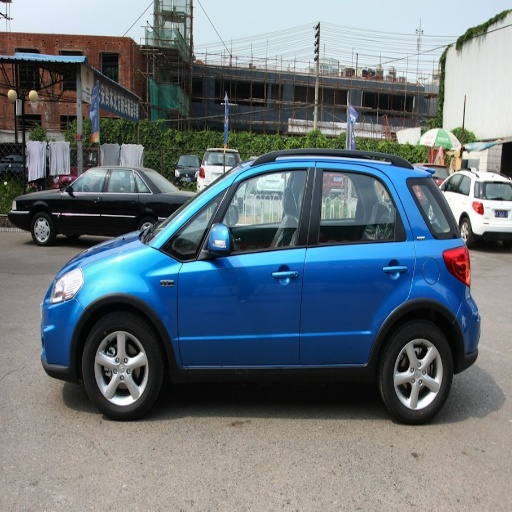back_glass: (413, 182, 455, 238)
back_left_door: (300, 162, 414, 368)
front_left_door: (175, 163, 315, 364)
